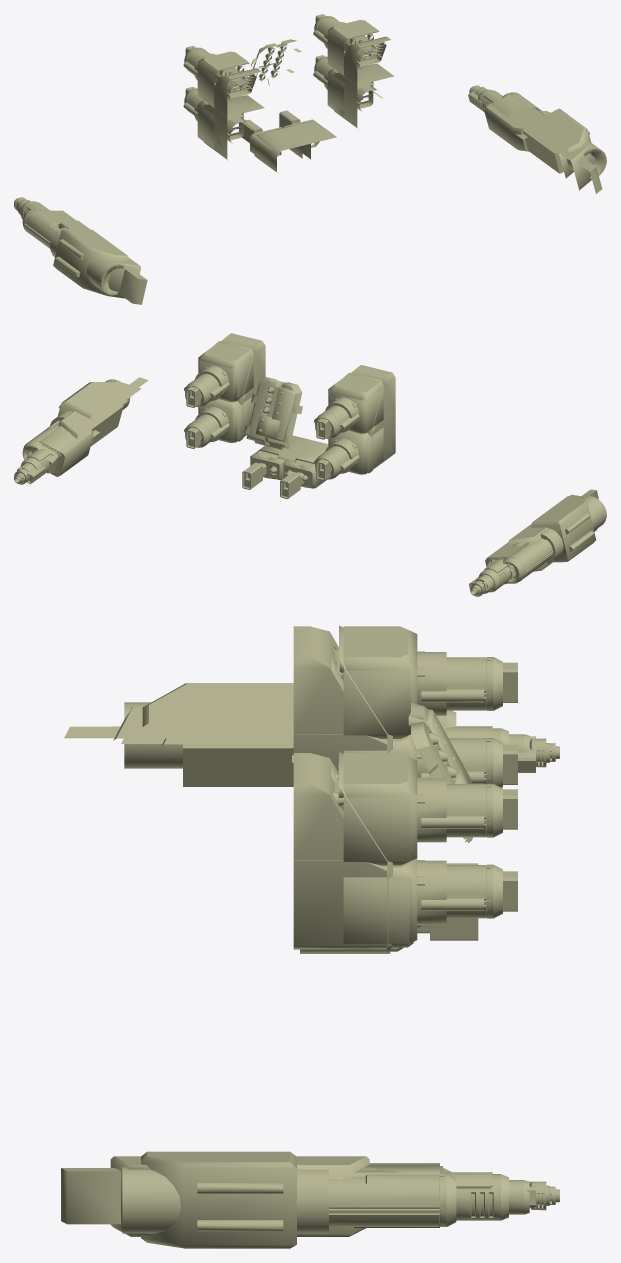
Rendered from QuickdrawWeapons.glb.
The picture shows the model from 3 angles, top to bottom: view 1: azimuth 30°, elevation 25°; view 2: azimuth 150°, elevation 25°; view 3: azimuth 270°, elevation 25°; orthographic projection. The views are drawn at different scales.
Parts seen in each view (by area): view 1: Forearm_Left_EH1_PPC, Forearm_Right_BH1_AC10, Forearm_Right_EH1_Flamer, Forearm_Right_EH1_PPC, Torso_Center_EH1_Flamer, Forearm_Left_BH1_AC10, Torso_Right_EH1_Laser, Torso_Right_MH1_Missile10, Torso_Right_MH1_Blank, Torso_Left_EH1_Blank, Torso_Left_EH1_Laser, Torso_Right_EH2_PPC (+12 smaller); view 2: Forearm_Left_EH1_PPC, Forearm_Right_EH1_PPC, Forearm_Right_EH1_Flamer, Torso_Center_MH1_Missile10, Torso_Left_EH2_PPC, Torso_Right_EH2_PPC, Forearm_Right_BH1_AC10, Torso_Right_EH1_PPC, Torso_Right_EH1_Laser, Torso_Center_EH1_Flamer, Forearm_Left_BH1_AC10, Torso_Left_EH1_Flamer (+14 smaller); view 3: Forearm_Right_EH1_PPC, Torso_Left_EH1_PPC, Forearm_Right_BH1_AC10, Forearm_Left_EH1_PPC, Torso_Right_EH2_PPC, Torso_Right_EH1_PPC, Torso_Right_EH1_Flamer, Torso_Left_MH1_Missile10, Torso_Right_EH2_Blank, Forearm_Left_EH1_Flamer, Torso_Right_EH2_Flamer, Forearm_Left_BH1_AC10 (+13 smaller).
Part boxes in pixels (<box>): Forearm_Left_EH1_PPC: <box>22,208,128,295</box>; Forearm_Right_BH1_AC10: <box>475,88,602,193</box>; Forearm_Right_EH1_Flamer: <box>468,86,563,173</box>; Forearm_Right_EH1_PPC: <box>502,92,606,179</box>; Torso_Center_EH1_Flamer: <box>242,119,336,171</box>; Forearm_Left_BH1_AC10: <box>17,199,147,304</box>; Torso_Right_EH1_Laser: <box>327,20,378,74</box>; Torso_Right_MH1_Missile10: <box>334,37,394,127</box>; Torso_Right_MH1_Blank: <box>344,36,386,128</box>; Torso_Left_EH1_Blank: <box>214,68,255,116</box>; Torso_Left_EH1_Laser: <box>197,51,248,81</box>; Torso_Right_EH2_PPC: <box>313,56,382,116</box>; Forearm_Left_EH1_PPC: <box>503,496,606,582</box>; Forearm_Right_EH1_PPC: <box>22,379,130,459</box>; Forearm_Right_EH1_Flamer: <box>17,405,123,483</box>; Torso_Center_MH1_Missile10: <box>244,377,302,449</box>; Torso_Left_EH2_PPC: <box>314,428,383,479</box>; Torso_Right_EH2_PPC: <box>184,397,251,447</box>; Forearm_Right_BH1_AC10: <box>20,377,148,474</box>; Torso_Right_EH1_PPC: <box>184,359,253,407</box>; Torso_Right_EH1_Laser: <box>198,342,253,398</box>; Torso_Center_EH1_Flamer: <box>260,435,328,499</box>; Forearm_Left_BH1_AC10: <box>475,489,598,593</box>; Torso_Left_EH1_Flamer: <box>316,388,383,439</box>; Forearm_Right_EH1_PPC: <box>122,1151,456,1248</box>; Torso_Left_EH1_PPC: <box>343,652,502,738</box>; Forearm_Right_BH1_AC10: <box>61,1156,529,1236</box>; Forearm_Left_EH1_PPC: <box>124,683,456,768</box>; Torso_Right_EH2_PPC: <box>343,858,502,942</box>; Torso_Right_EH1_PPC: <box>344,778,502,861</box>; Torso_Right_EH1_Flamer: <box>343,778,517,865</box>; Torso_Left_MH1_Missile10: <box>293,626,386,771</box>; Torso_Right_EH2_Blank: <box>293,860,386,949</box>; Forearm_Left_EH1_Flamer: <box>183,716,535,786</box>; Torso_Right_EH2_Flamer: <box>343,860,517,947</box>; Forearm_Left_BH1_AC10: <box>64,707,529,752</box>.
Size of the model in its own units: 2.43 by 0.6943 by 1.01.
